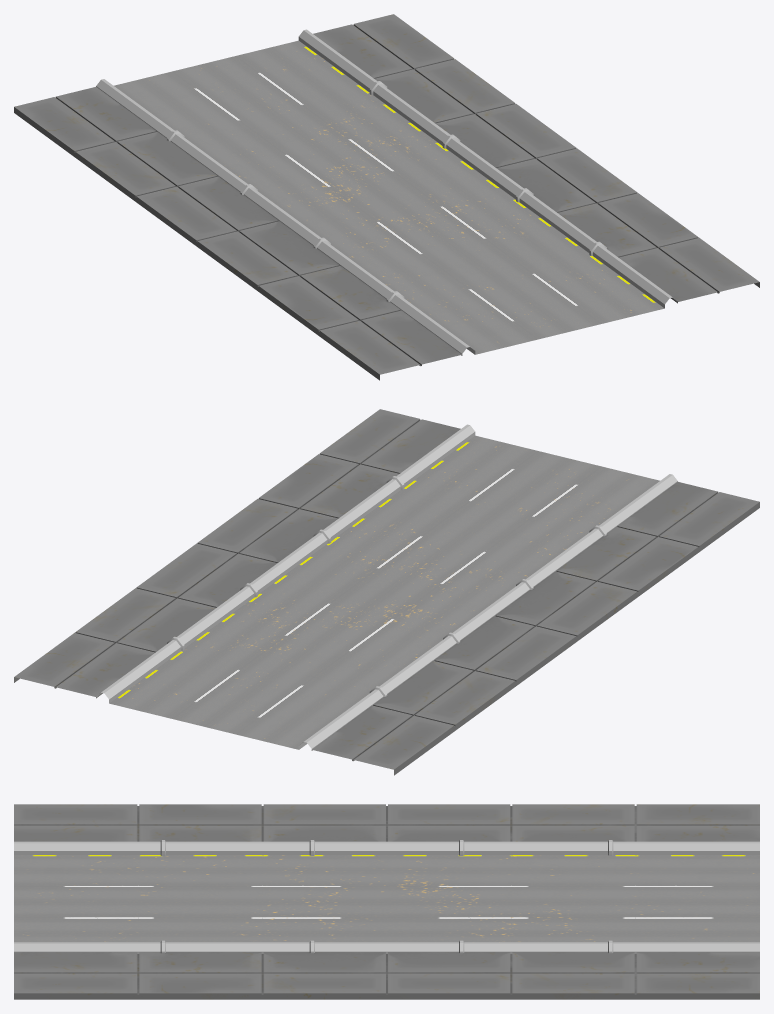
Rendered from RoadMain.fbx.
3 renders of one model, top to bottom at view 1: azimuth 30°, elevation 25°; view 2: azimuth 150°, elevation 25°; view 3: azimuth 270°, elevation 25°, orthographic.
Parts seen in each view (by area): view 1: Plane, Plane.001, Plane.002; view 2: Plane, Plane.001, Plane.002; view 3: Plane, Plane.001, Plane.002.
Boxes of the visible parts, left/top/right/bottom form: Plane: left=114, top=40, right=664, bottom=354; Plane.001: left=14, top=14, right=759, bottom=380; Plane.002: left=96, top=29, right=677, bottom=355; Plane: left=109, top=435, right=659, bottom=749; Plane.001: left=14, top=409, right=759, bottom=775; Plane.002: left=96, top=424, right=677, bottom=749; Plane: left=14, top=855, right=759, bottom=942; Plane.001: left=14, top=804, right=759, bottom=999; Plane.002: left=14, top=840, right=759, bottom=953.
Bounding box in the file's own units: 5.99 × 0.2028 × 10.
